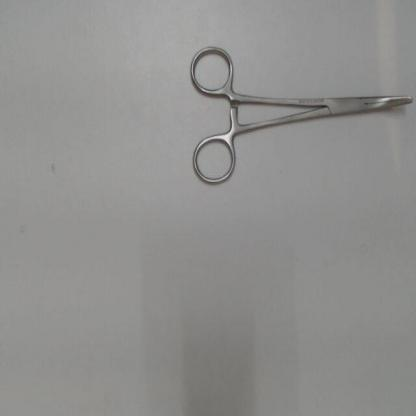Crile Artery Forceps: (189, 37, 414, 186)
